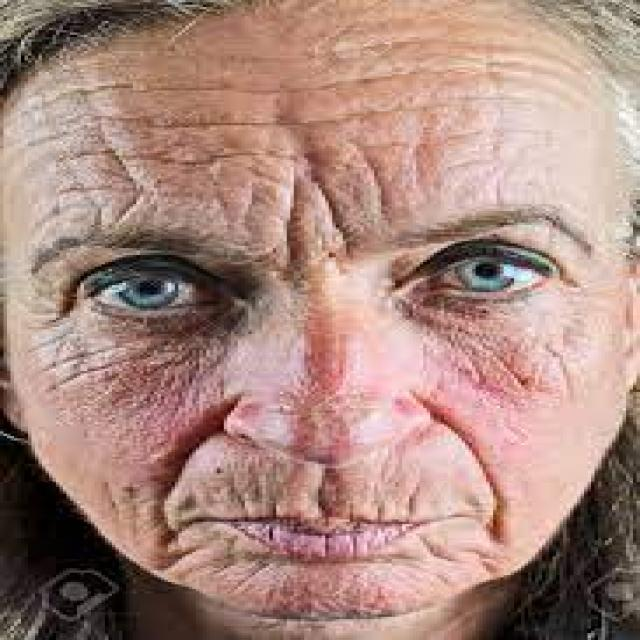Wrinkles: (56, 127, 559, 289), (21, 16, 593, 91), (10, 96, 509, 158), (18, 63, 590, 111), (430, 310, 587, 405), (153, 531, 275, 597), (15, 328, 136, 390), (420, 536, 518, 575)
